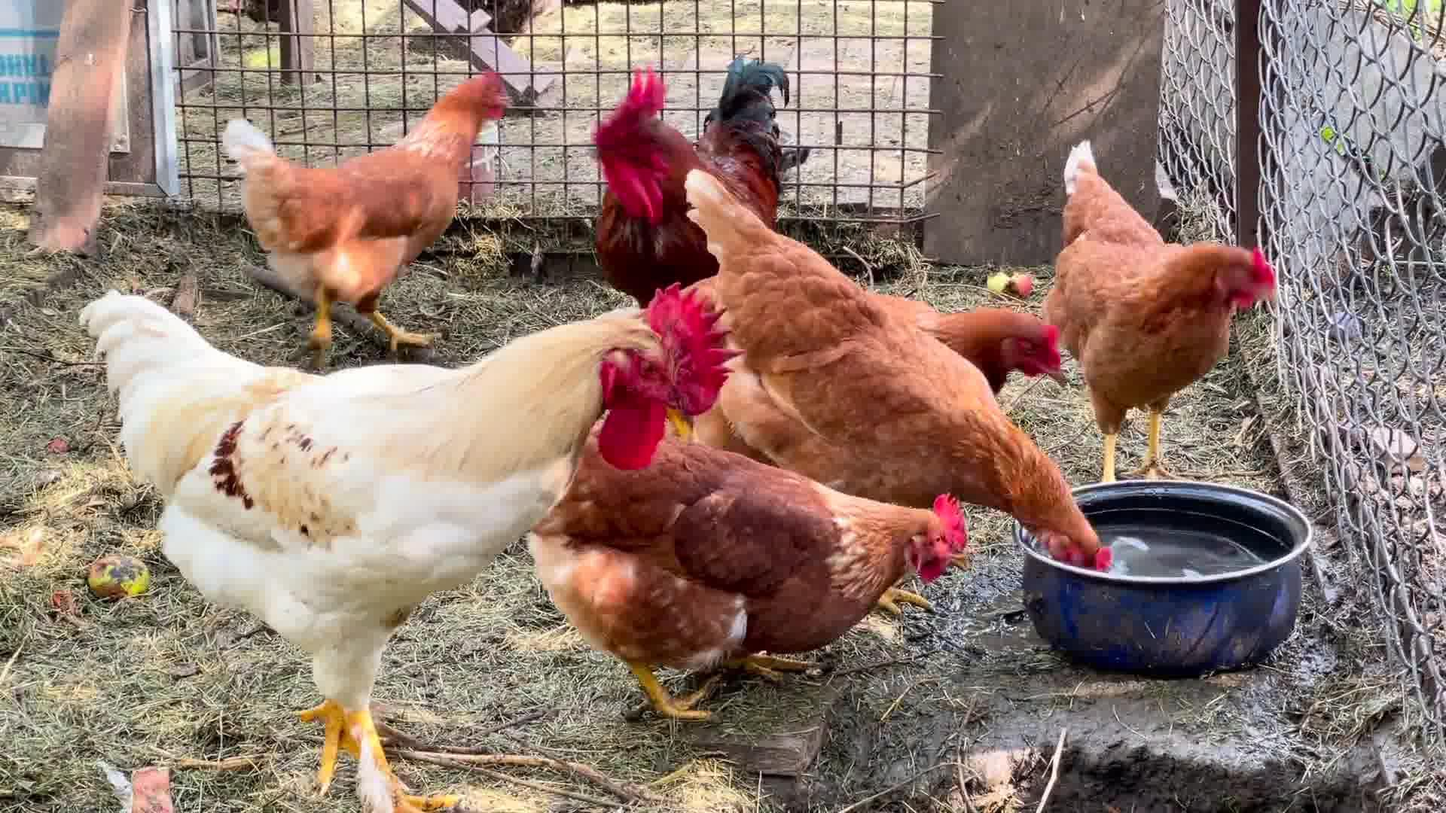Normal: (76, 285, 734, 813), (688, 170, 1120, 563), (593, 413, 965, 737), (207, 66, 522, 355), (1059, 142, 1287, 483), (592, 62, 802, 277), (904, 285, 1094, 414)
